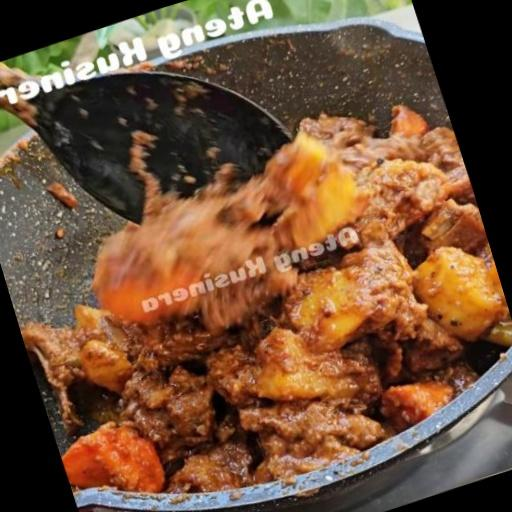pork caldereta: (65, 108, 511, 498)
